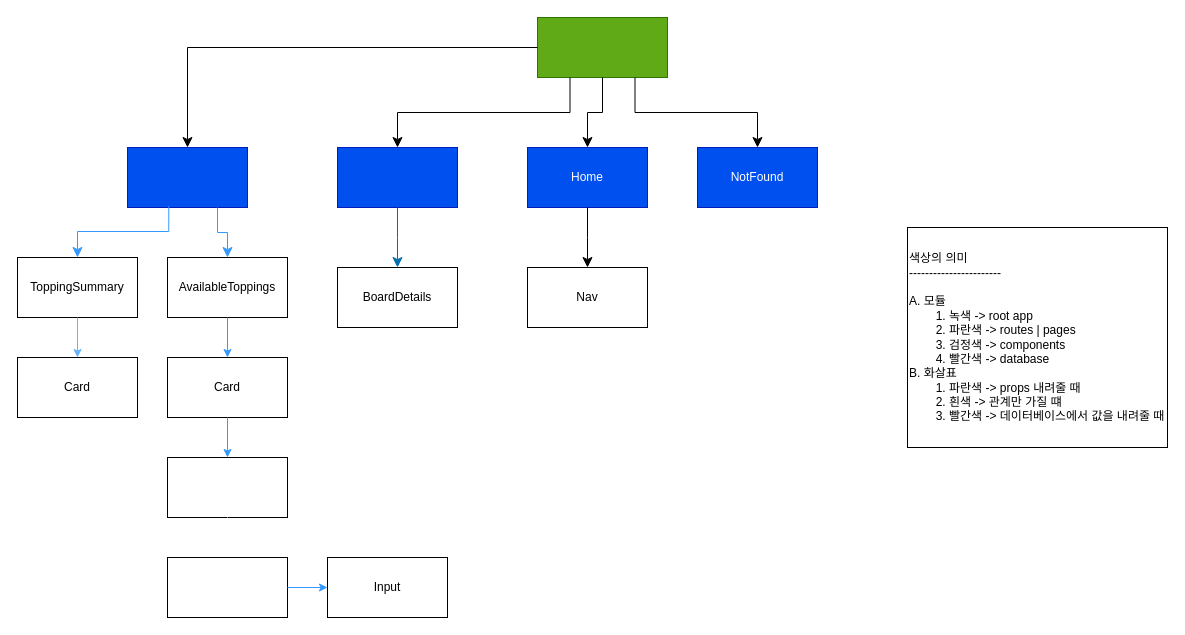
Some shapes in this 1185 by 635 pixel diagram are drawn without their labels. Here are the shapes that lost their labels. From the top down, the centre of each, then its label:
At point (602, 47): "AppRouter".
At point (187, 177): "Toppings".
At point (397, 177): "BoardList".
At point (227, 487): "ToppingItem".
At point (227, 587): "ToppingItemForm".
